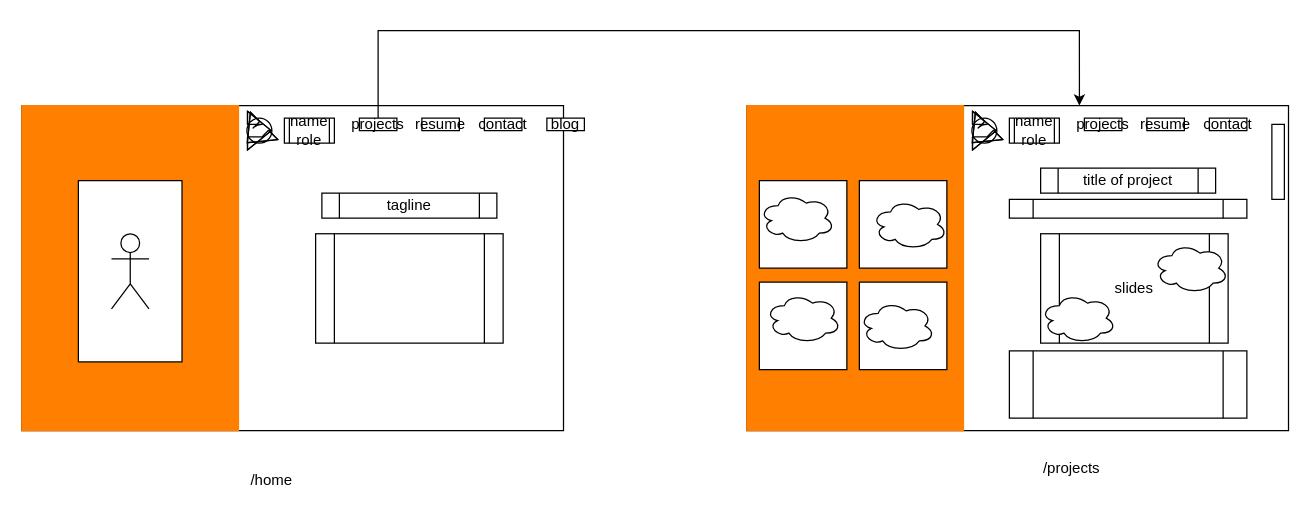
Image size: 1311x515. Some labels were removed from this diagram. The shapes that lost their labels are listed below. From the top down, each one's centre as x and y in pixels, then its label:
point (1127, 208): skills used
point (408, 287): short blurb about me
point (1127, 384): information on project
